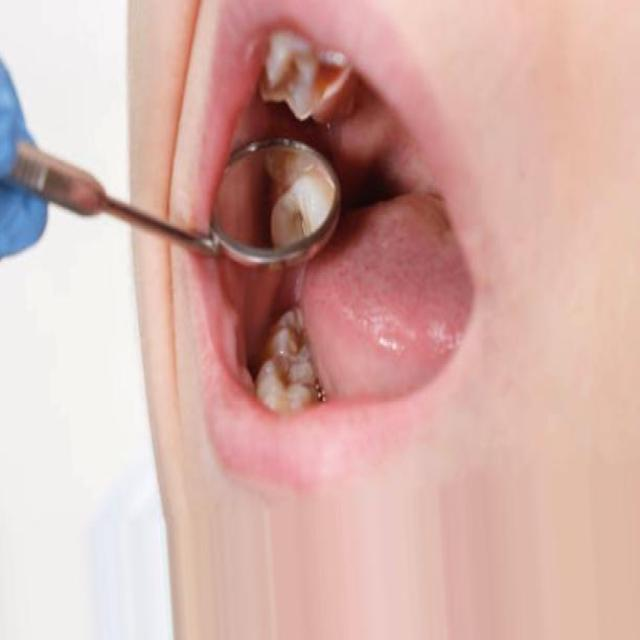caries: (262, 34, 351, 120)
